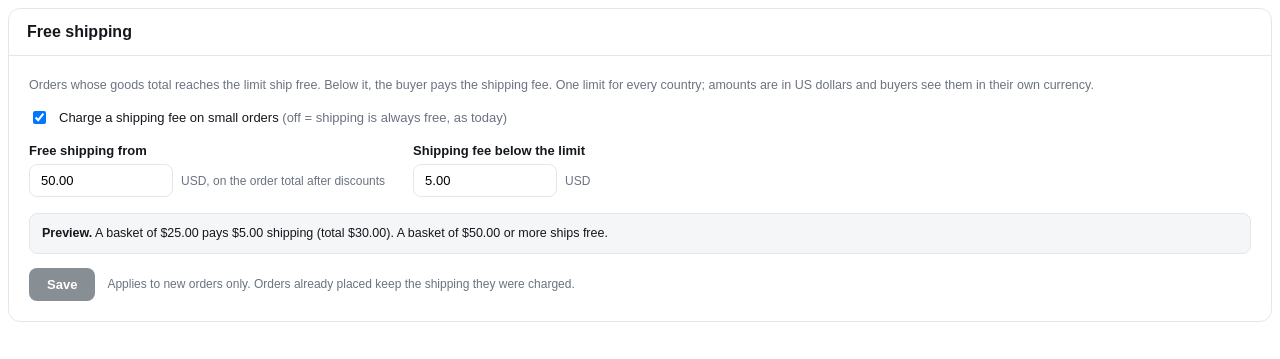
Scenario: the checks before saving › text, three decimals and too large an amount are each refused in words
Replace the text in the field labelled "Free shipping from" with "abc" at {"x": 101, "y": 181}, box [29,164,173,197]
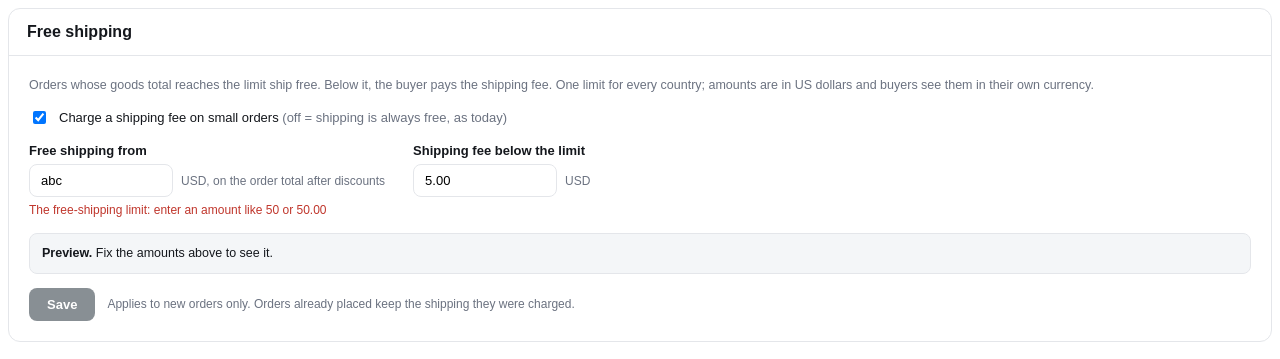
Check: the text "The free-shipping limit: enter an amount like 50 or 50.00" is shown, box [29,203,326,217]
Replace the text in the field labelled "Free shipping from" with "50.123" at {"x": 101, "y": 181}, box [29,164,173,197]
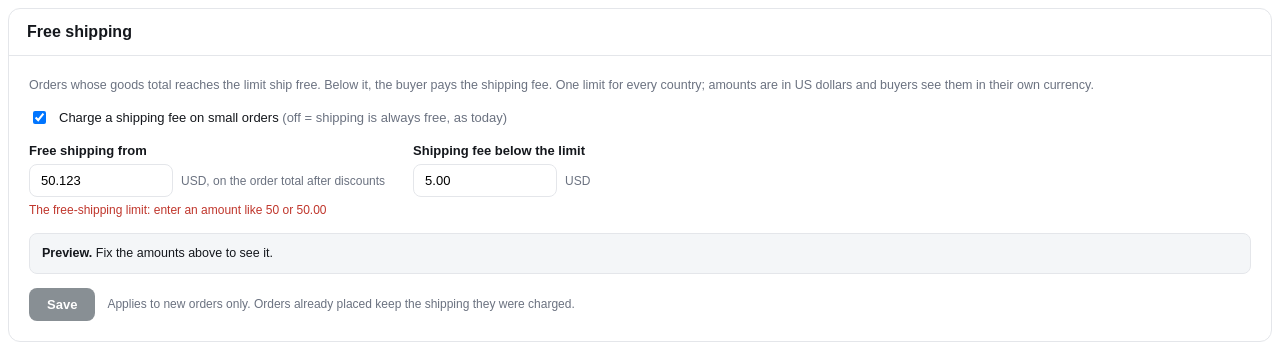
Check: the button "Save" is disabled, box [29,288,95,321]
Replace the text in the field labelled "Free shipping from" with "100001" at {"x": 101, "y": 181}, box [29,164,173,197]
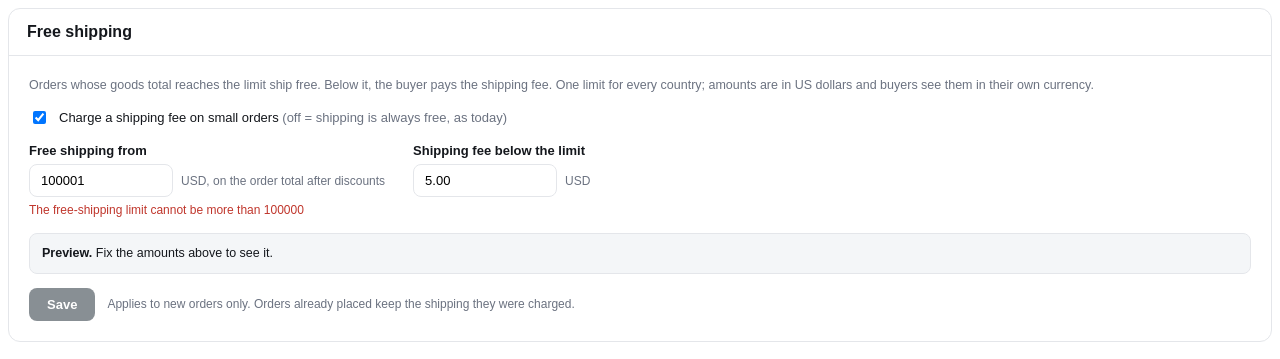
Check: the text "The free-shipping limit cannot be more than 100000" is shown, box [29,203,304,217]
Replace the text in the field labelled "Free shipping from" with "50" at {"x": 101, "y": 181}, box [29,164,173,197]
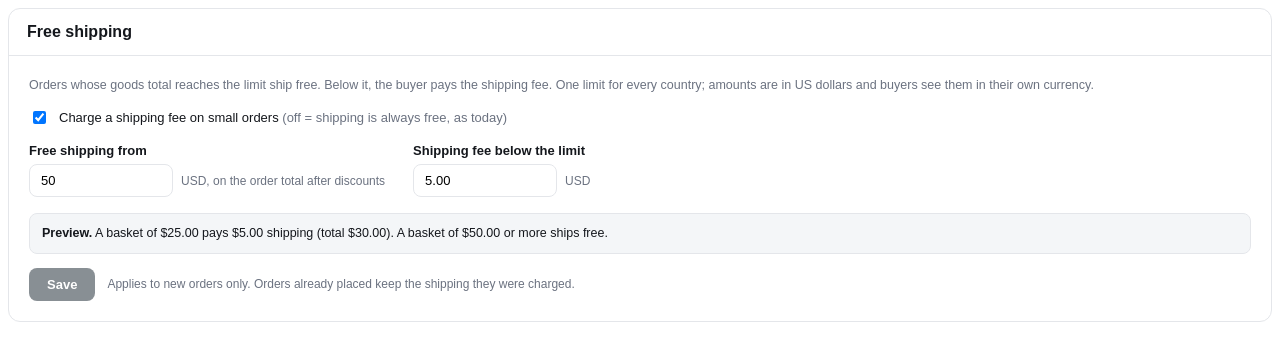
Replace the text in the field labelled "Shipping fee below the limit" with "10001" at {"x": 485, "y": 181}, box [413,164,557,197]
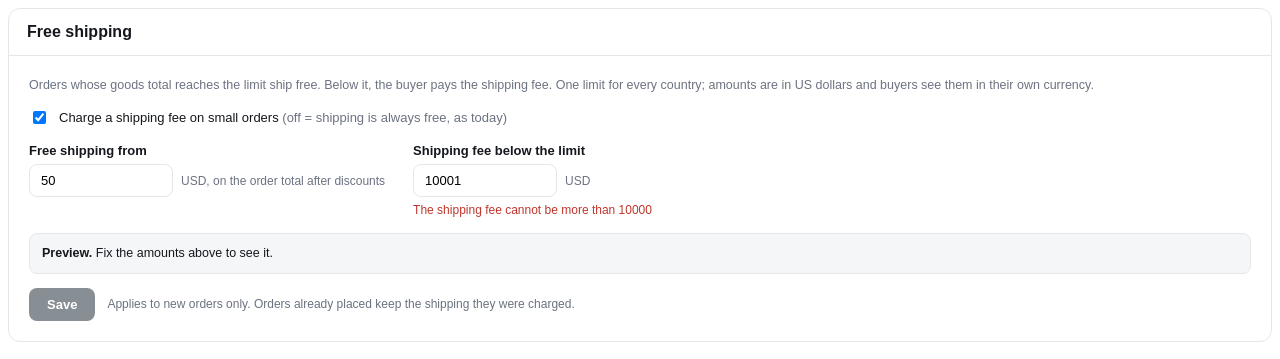
Check: the button "Save" is disabled, box [29,288,95,321]
Check: the text "The shipping fee cannot be more than 10000" is shown, box [413,203,652,217]
